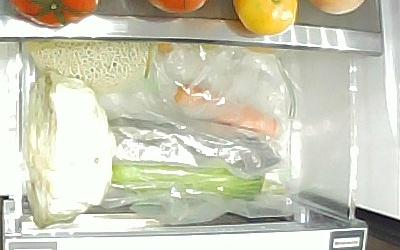cabbage: (23, 74, 113, 230)
carrot_vinyl: (176, 83, 279, 137)
eggplant_vinyl: (109, 116, 280, 168)
melon: (27, 41, 150, 88)
zucchini_vinyl: (112, 163, 288, 199)
